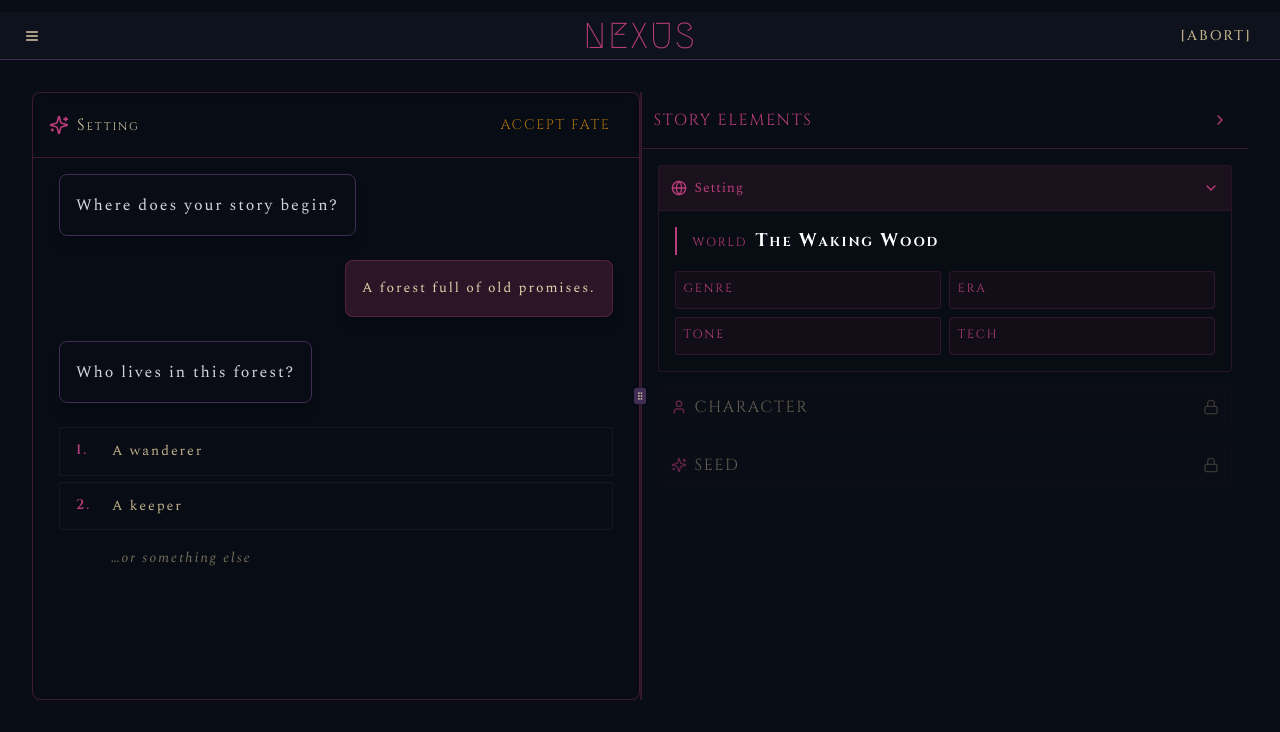
confirming wizard phases › retains the artifact when the next phase returns Bad Gateway
Click the button with test id "wizard-choice-1".
click(158, 450)  # box [59,427,612,476]
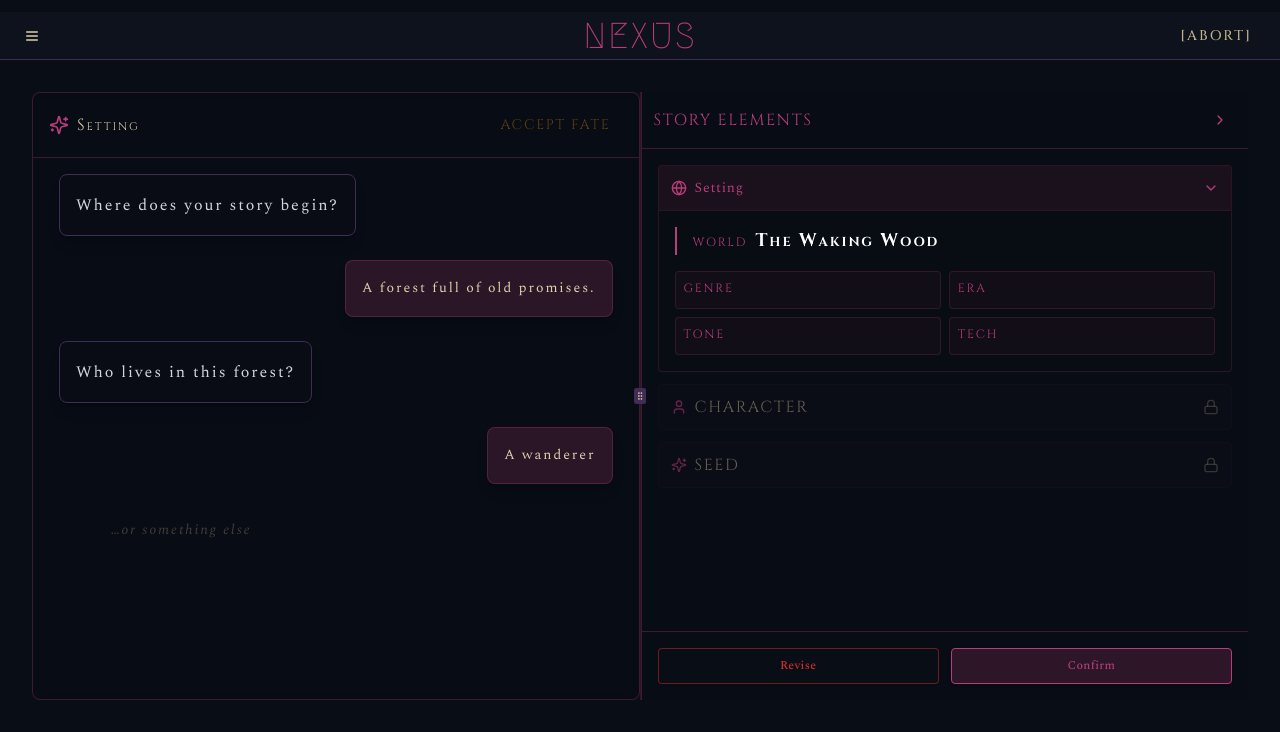
Click the button "Confirm".
click(1091, 666)  # box [951,648,1232,684]
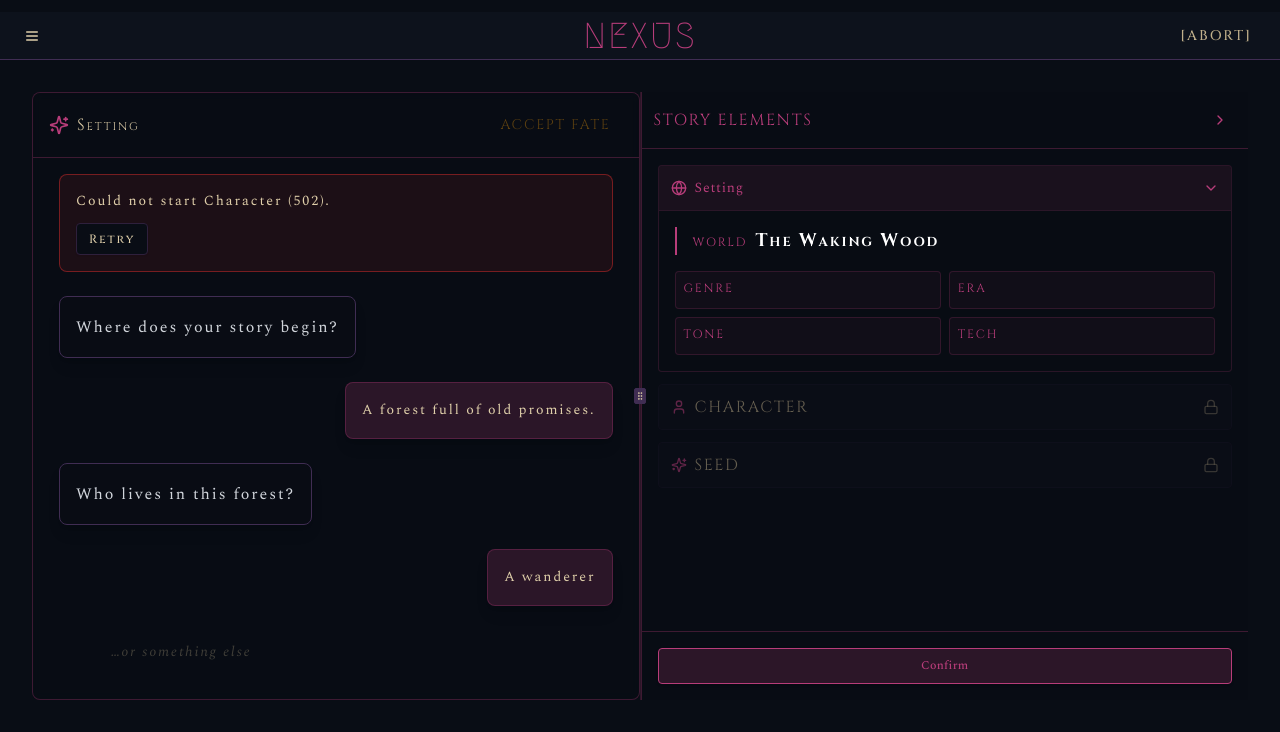
Expected: the heading "Setting" is shown, [77,113,140,137]
Expected: the button "Confirm" is enabled, [658,648,1232,684]
Expected: the message shows "Could not start Character (502).", [76,190,331,211]
